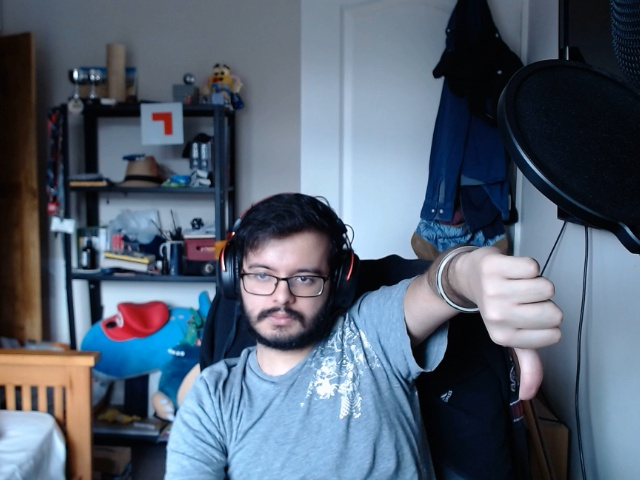Thumbs down: (474, 237, 569, 414)
